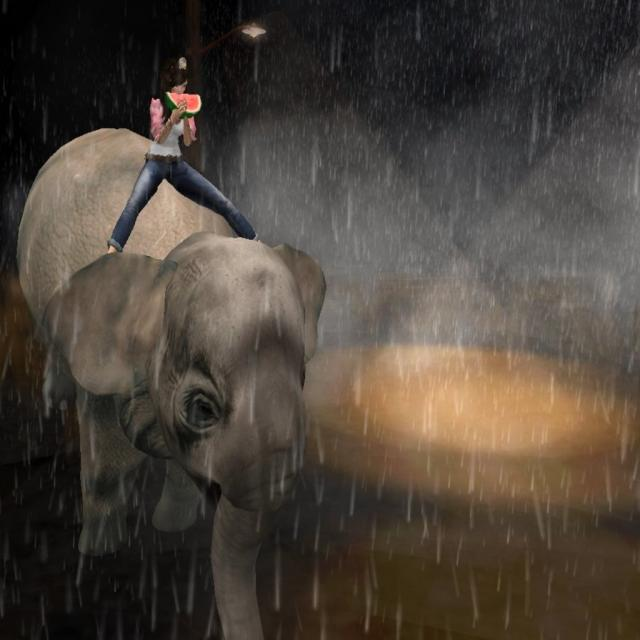elephant: (30, 200, 294, 598)
